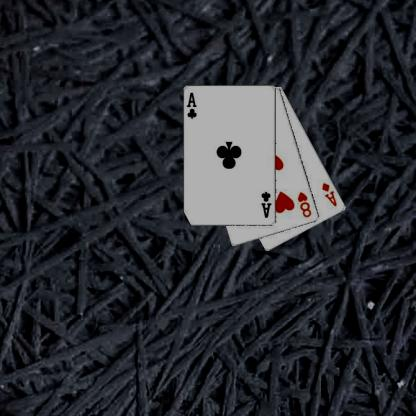8H: (295, 188, 313, 218)
AC: (184, 90, 198, 120), (259, 190, 272, 219)
AD: (320, 180, 338, 208)
